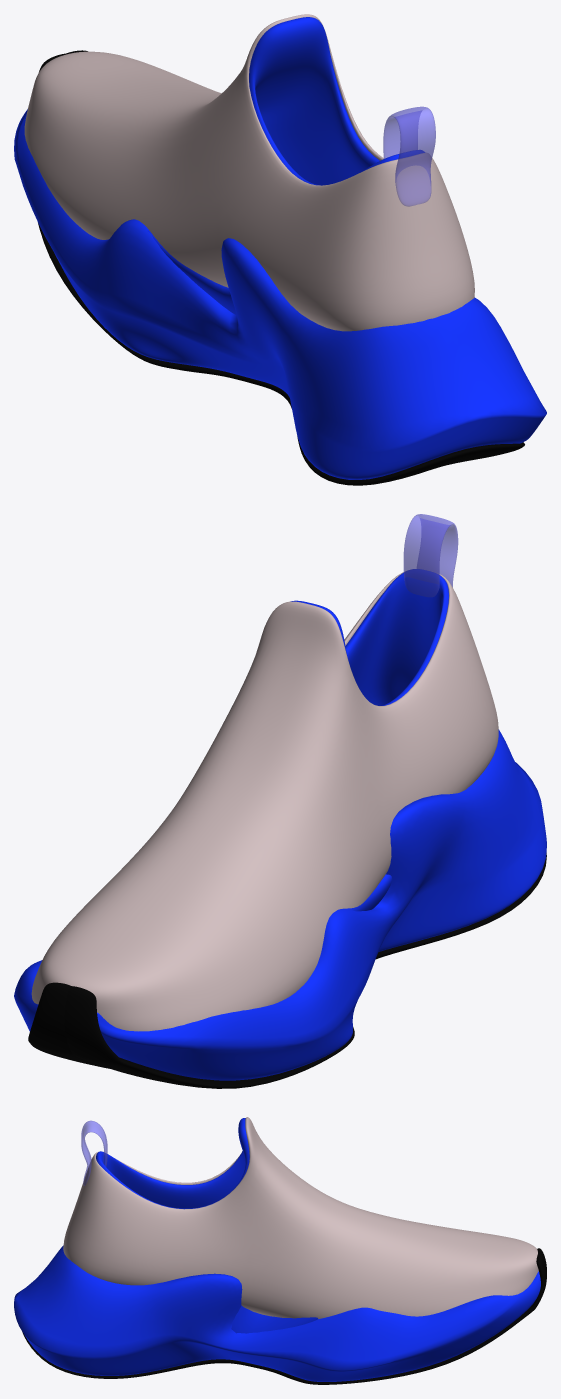
Rendered from newLookk.glb.
3 views of the same model, one above another, from view 1: azimuth 30°, elevation 25°; view 2: azimuth 150°, elevation 25°; view 3: azimuth 270°, elevation 25° (orthographic). The views are drawn at different scales.
Visible parts, largest first — view 1: shoeButtom; view 2: shoeButtom; view 3: shoeButtom.
Boxes of the visible parts, bbox=[...] form: shoeButtom: bbox=[14, 14, 546, 485]; shoeButtom: bbox=[14, 514, 546, 1088]; shoeButtom: bbox=[14, 1117, 546, 1384].
Bounding box in the file's own units: 0.8144 × 1.14 × 2.33.
